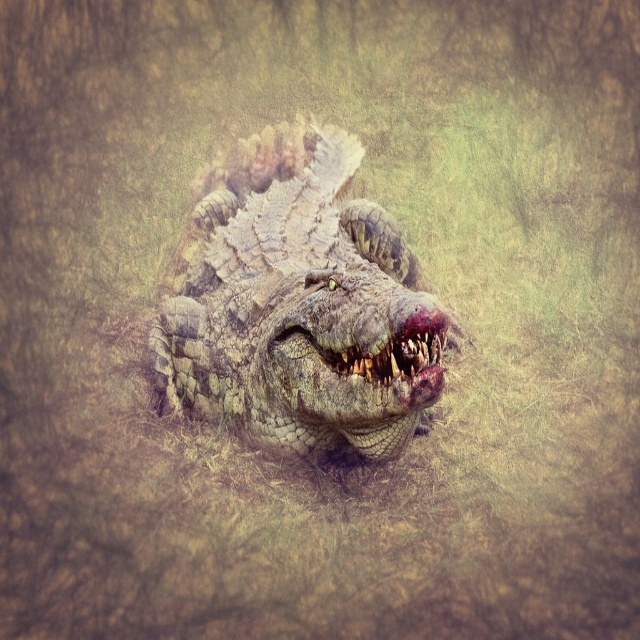Crocodile: (149, 117, 479, 464)
